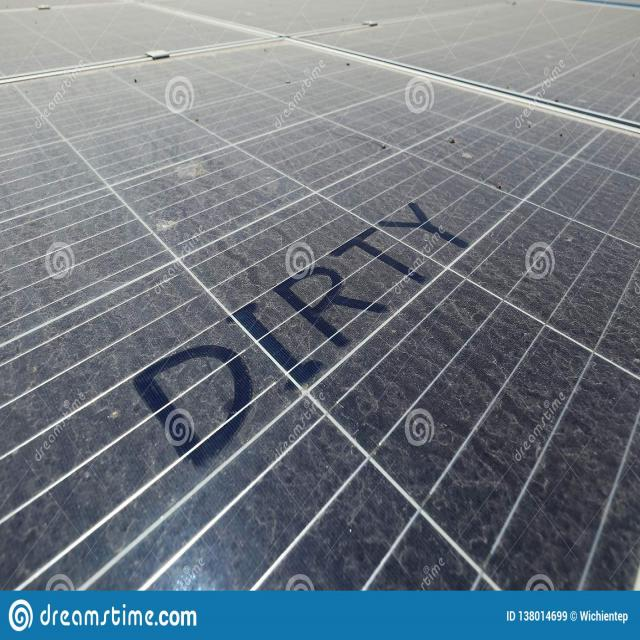faulty: (4, 7, 640, 606)
